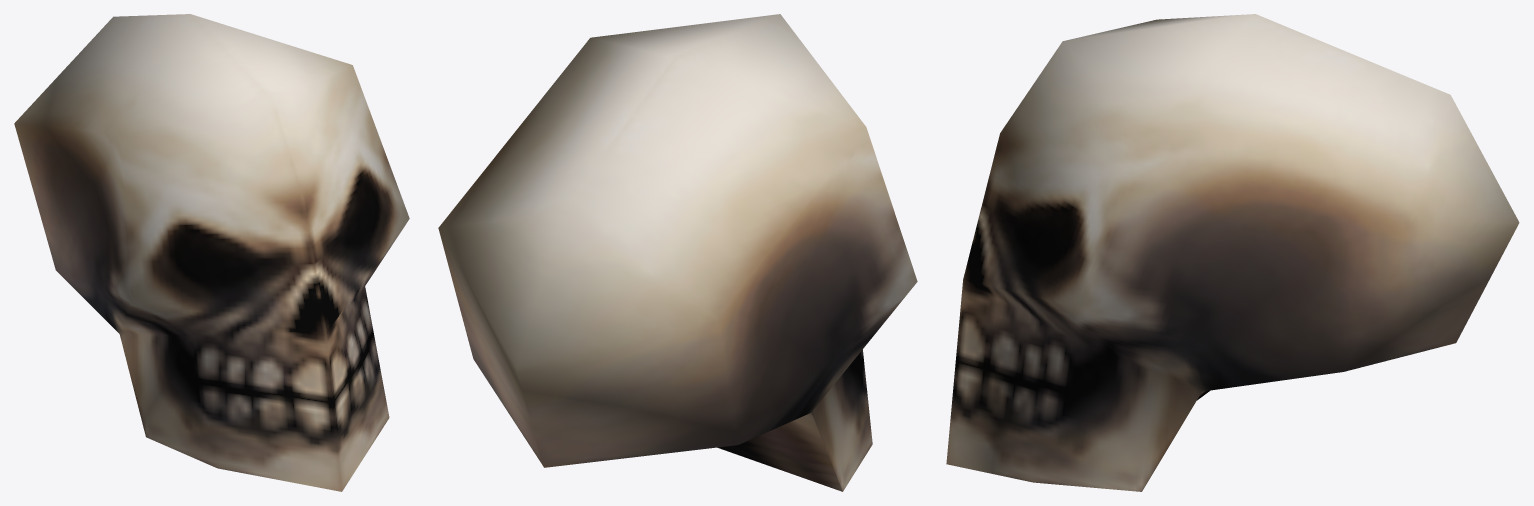
File: UD_skull.FBX
3 renders of one model, left to right at view 1: azimuth 30°, elevation 25°; view 2: azimuth 150°, elevation 25°; view 3: azimuth 270°, elevation 25°, orthographic. The views are drawn at different scales.
Parts seen in each view (by area): view 1: UD_skull; view 2: UD_skull; view 3: UD_skull.
Boxes of the visible parts, box(x1,y1,x2,y2) form: UD_skull: box(14, 14, 409, 491); UD_skull: box(438, 14, 917, 491); UD_skull: box(946, 14, 1519, 491).
Size of the model in its own units: 7.51 by 10.08 by 11.88.
